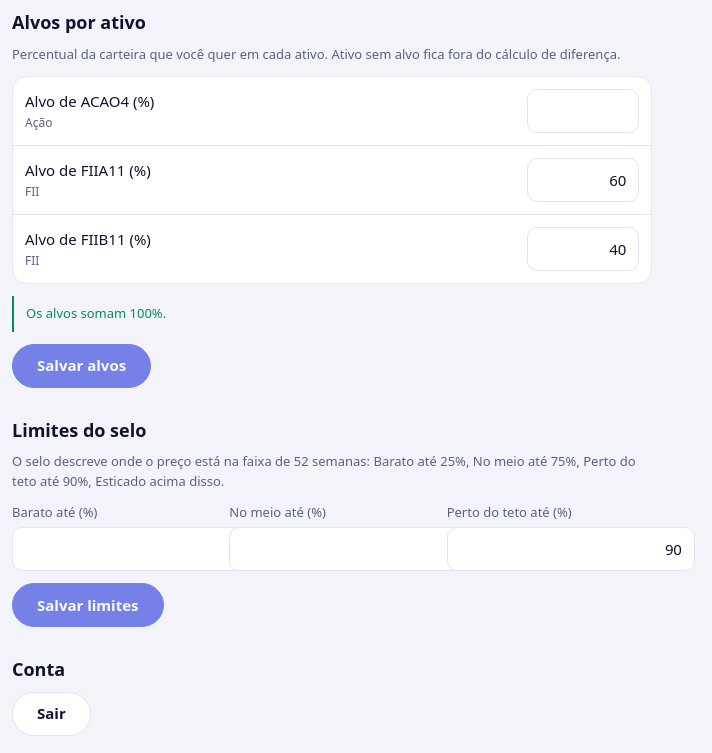
Scenario: Configurações: alvos › voltar ao valor original desfaz a mudança
This screenshot has width=712, height=753.
Replace the text in the field labelled "Alvo de FIIA11 (%)" with "50" at (583, 180), box [527,158,639,202]
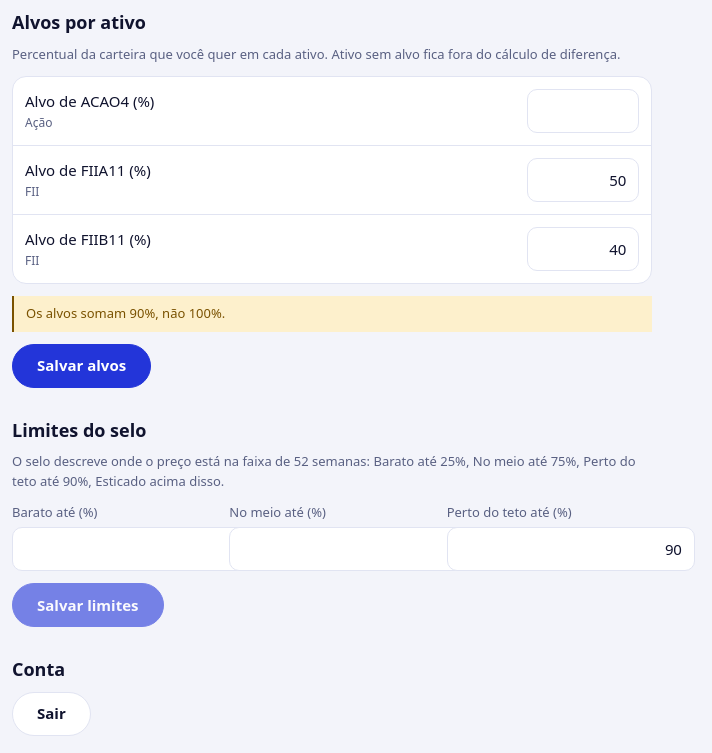
Check: the button "Salvar alvos" is enabled, box [12,344,151,388]
Replace the text in the field labelled "Alvo de FIIA11 (%)" with "60,0" at (583, 180), box [527,158,639,202]
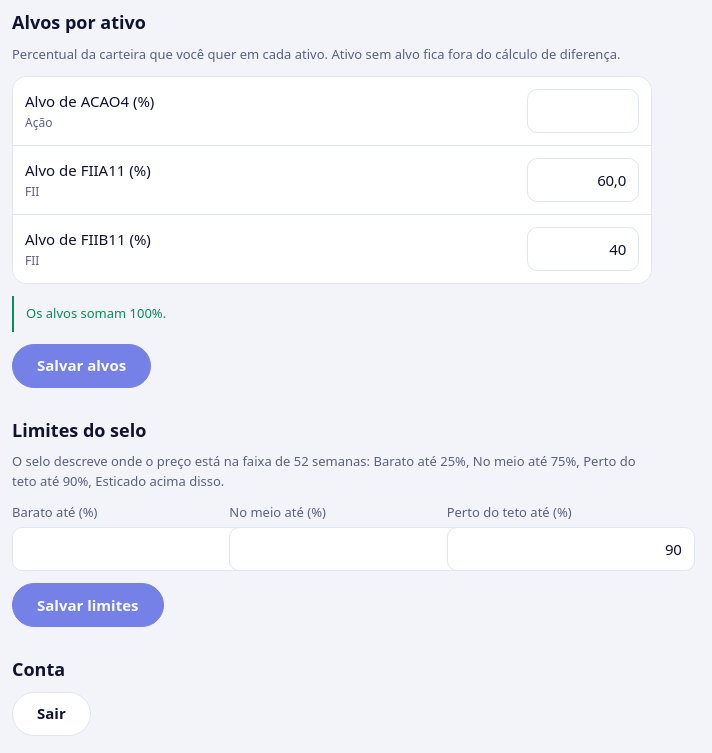
Check: the button "Salvar alvos" is disabled, box [12,344,151,388]
